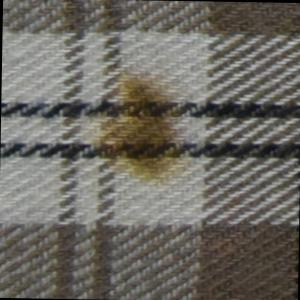Oil Stain: (91, 67, 198, 190)
